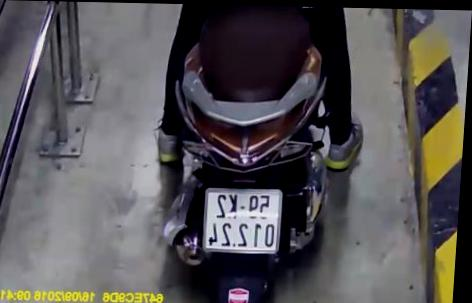License_Plate: (193, 180, 293, 262)
